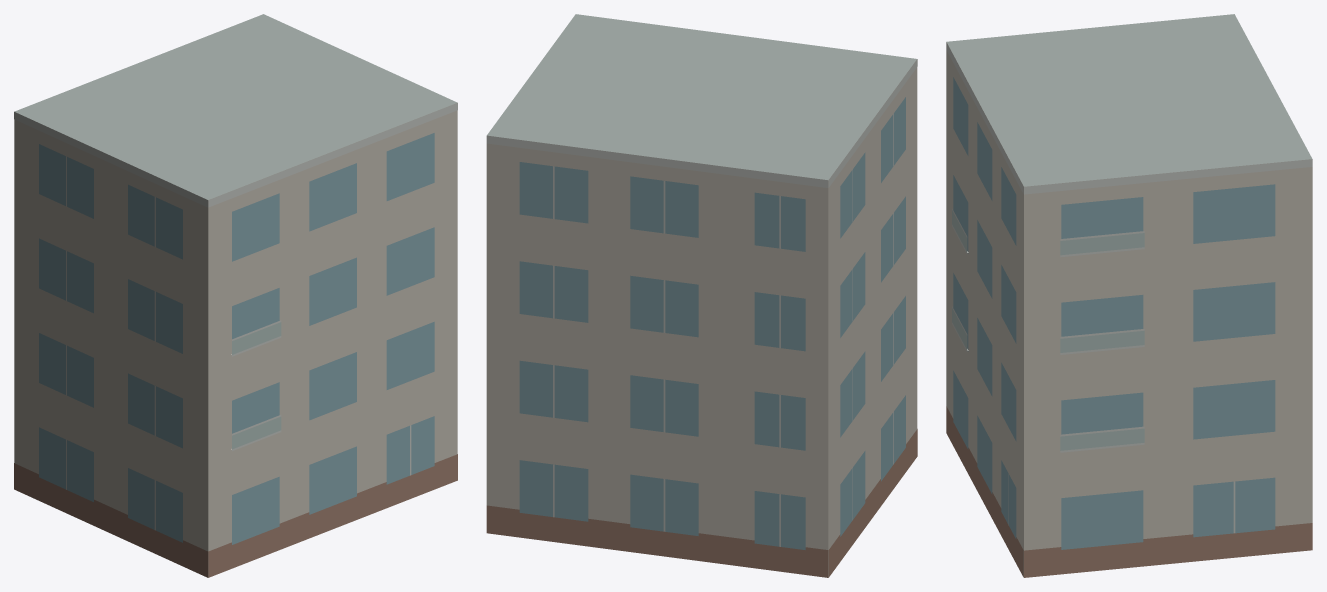
File: residential-80bd9854-5a20-4f96-a1eb-ad58eb9e4089.glb
3 renders of one model, left to right at view 1: azimuth 30°, elevation 25°; view 2: azimuth 150°, elevation 25°; view 3: azimuth 270°, elevation 25°, orthographic. The views are drawn at different scales.
Parts seen in each view (by area): view 1: residential-80bd9854-5a20-4f96-a1eb-ad58eb9e4089.tmp; view 2: residential-80bd9854-5a20-4f96-a1eb-ad58eb9e4089.tmp; view 3: residential-80bd9854-5a20-4f96-a1eb-ad58eb9e4089.tmp.
Part boxes in pixels (x1=…): residential-80bd9854-5a20-4f96-a1eb-ad58eb9e4089.tmp: x1=14, y1=14, x2=457, y2=577; residential-80bd9854-5a20-4f96-a1eb-ad58eb9e4089.tmp: x1=486, y1=14, x2=917, y2=577; residential-80bd9854-5a20-4f96-a1eb-ad58eb9e4089.tmp: x1=946, y1=14, x2=1312, y2=577.
Bounding box in the file's own units: 11.57 × 12.2 × 10.36.
